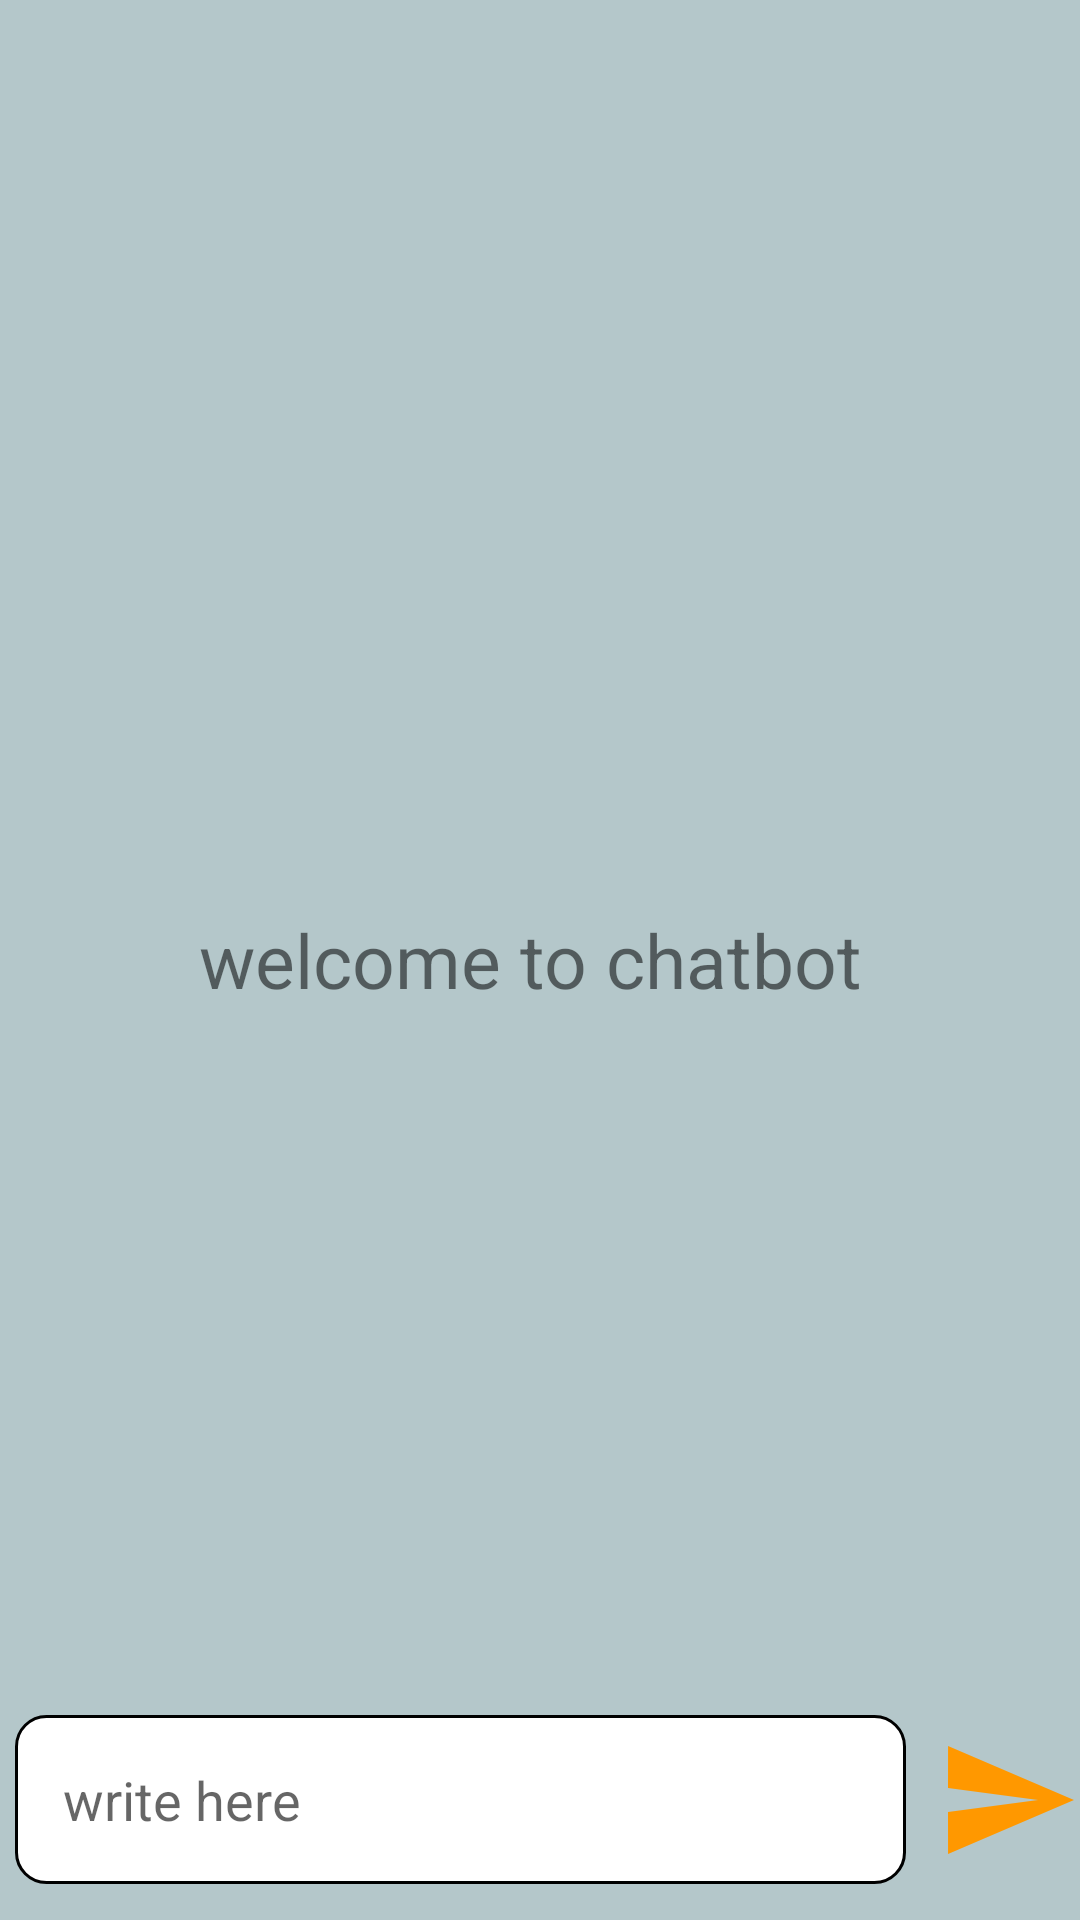

Icon click points for this 1080*1920 phone screenshot, format (x=x, y=y):
send: (x=1011, y=1800)
